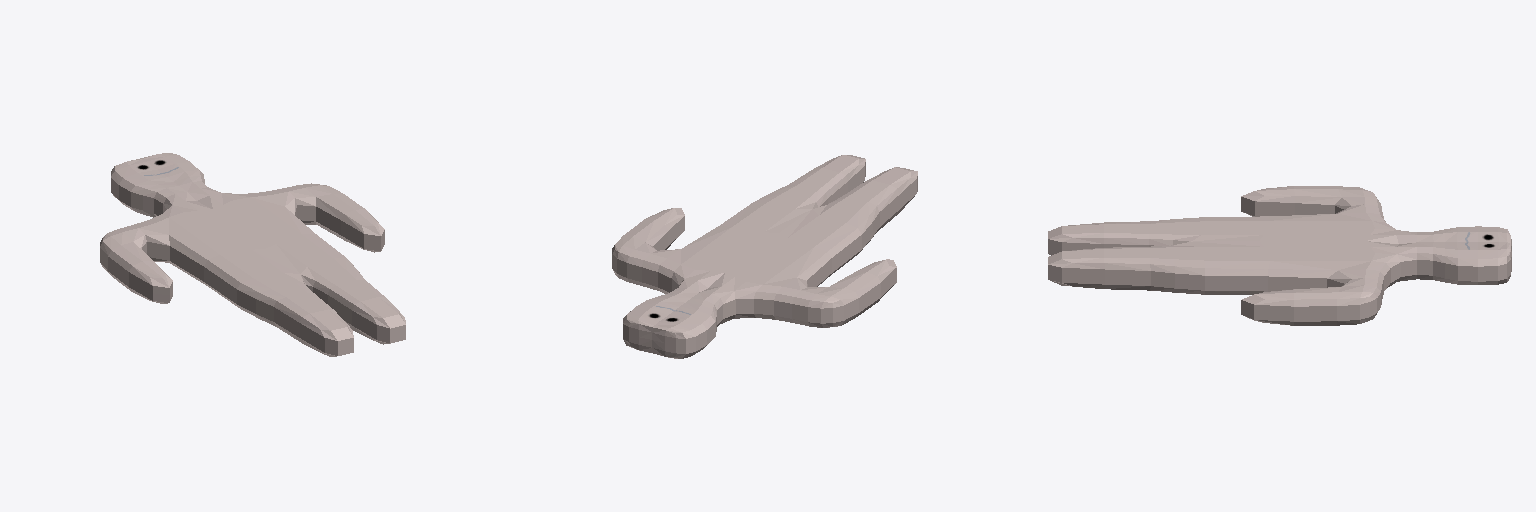
The picture shows the model from 3 angles: view 1: azimuth 30°, elevation 25°; view 2: azimuth 150°, elevation 25°; view 3: azimuth 270°, elevation 25°; orthographic projection.
Visible parts, largest first — view 1: Plane; view 2: Plane; view 3: Plane.
Boxes of the visible parts, x1,y1,x2,y2 form: Plane: [100, 153, 405, 356]; Plane: [612, 155, 917, 358]; Plane: [1048, 186, 1511, 325].
Bounding box in the file's own units: 5.02 × 0.6034 × 8.41.
1 materials, 1 textured.